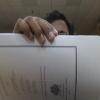notebook: (0, 32, 99, 99)
